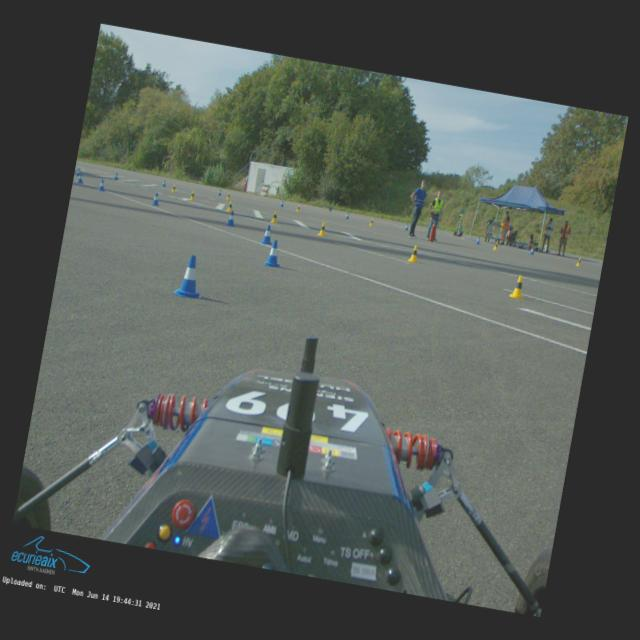blue_cone: (172, 253, 208, 300), (264, 239, 284, 268), (260, 223, 274, 244), (226, 210, 237, 227), (150, 192, 160, 206), (97, 179, 105, 191), (76, 172, 84, 182), (216, 188, 222, 196), (75, 167, 81, 175), (113, 172, 119, 179), (475, 236, 481, 243), (528, 247, 534, 254), (404, 222, 408, 230), (162, 180, 166, 187), (280, 200, 284, 207), (345, 212, 349, 219)
yellow_cone: (510, 274, 528, 300), (408, 244, 420, 262), (318, 222, 328, 236), (270, 210, 278, 223), (226, 200, 234, 212), (574, 256, 582, 266), (188, 190, 196, 200), (170, 183, 177, 192), (492, 241, 498, 250), (225, 191, 231, 199), (295, 204, 301, 212), (368, 218, 374, 225)
